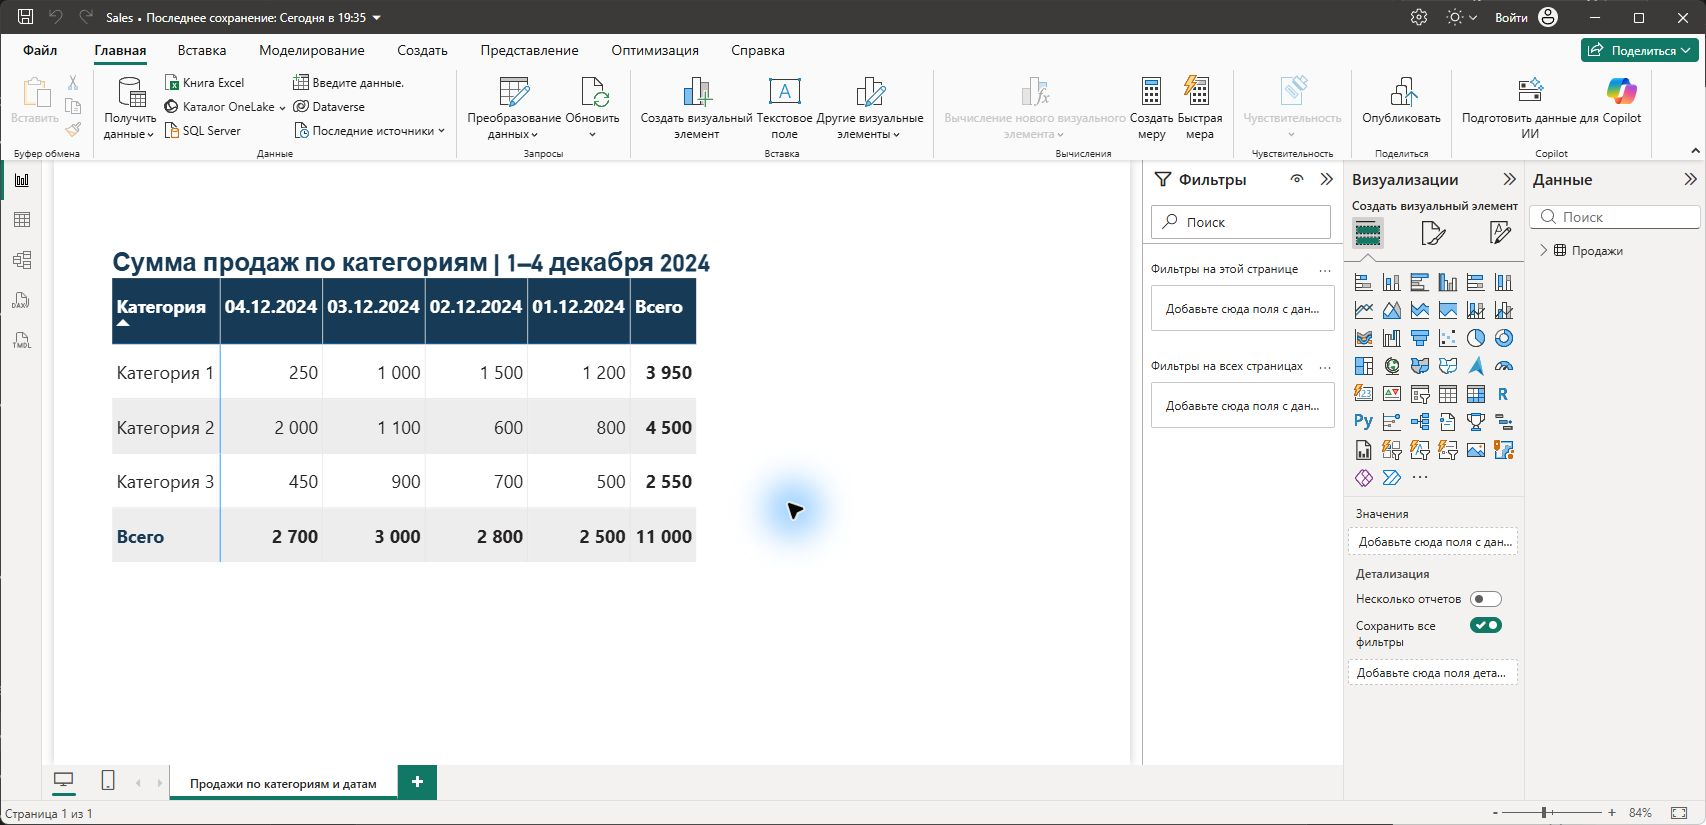

The page's visual inventory and layout, read from the dashboard file:
{"tool":"powerbi","page":{"name":"Продажи по категориям и датам","canvas":[1280,720],"ordinal":0},"visuals":[{"type":"pivotTable","title":"Сумма продаж по категориям | 1–4 декабря 2024","fields":{"Columns":["Продажи.Дата"],"Rows":["Продажи.Категория"],"Values":["Продажи.Сумма продаж"]},"box":[64,104,1152,480],"z":0}]}

Visuals, with their boxes on the page's 1280x720 design canvas (x1, y1, x2, y2). These are canvas units, not pixel positions in the 1706x825 screenshot, which may show the page scaled, cropped or inside an application window:
"Сумма продаж по категориям | 1–4 декабря 2024" pivotTable: Rect(64, 104, 1216, 584)
